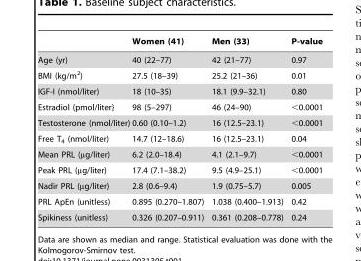table: (37, 36, 322, 221)
table column: (37, 36, 130, 221), (207, 36, 286, 221), (130, 36, 207, 221), (286, 36, 322, 221)
table column header: (37, 36, 322, 50)
table row: (37, 66, 322, 83), (37, 50, 322, 66), (37, 83, 322, 99), (37, 114, 322, 130), (37, 145, 322, 161), (37, 161, 322, 177), (37, 177, 322, 193), (37, 193, 322, 209), (37, 99, 322, 114), (37, 130, 322, 145), (37, 36, 322, 50), (37, 209, 322, 221)
